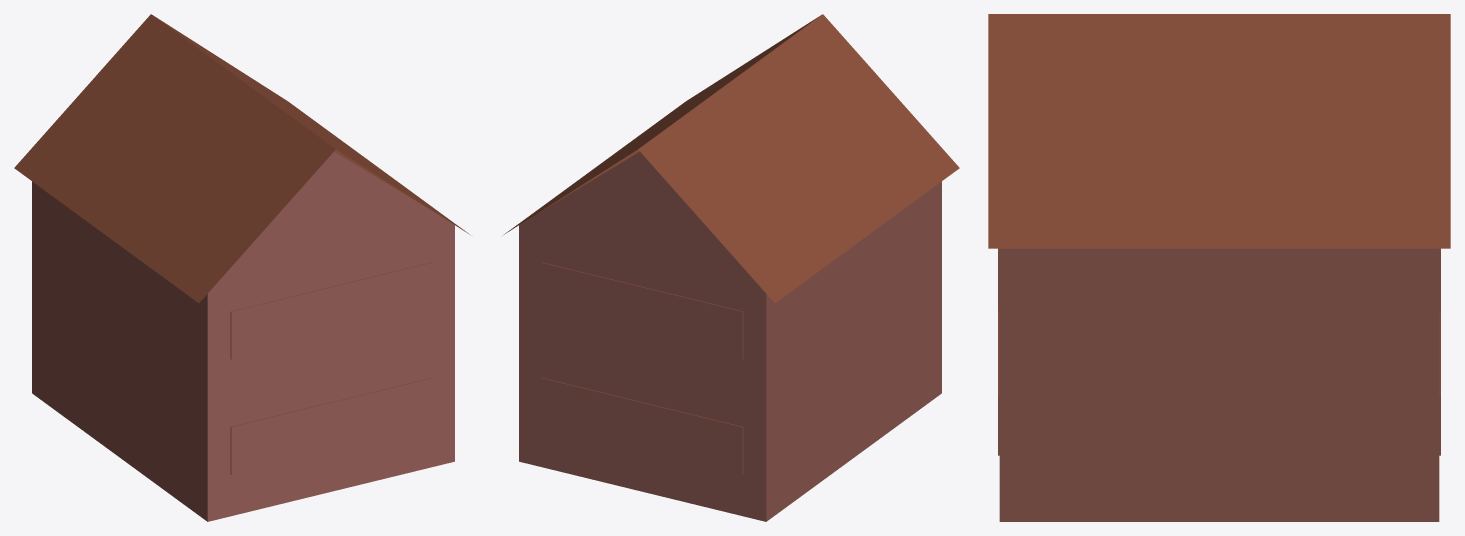
File: cove-house-red.far-facades-v3.lod2.glb
3 views of the same model, side by side, from view 1: azimuth 30°, elevation 25°; view 2: azimuth 150°, elevation 25°; view 3: azimuth 270°, elevation 25° (orthographic). The views are drawn at different scales.
Parts seen in each view (by area): view 1: cove-house-red; view 2: cove-house-red; view 3: cove-house-red.
Boxes of the visible parts, <box> form: cove-house-red: <box>14,14,469,521</box>; cove-house-red: <box>504,14,959,521</box>; cove-house-red: <box>988,14,1450,521</box>.
Size of the model in its own units: 7.2 by 8.69 by 8.42.
